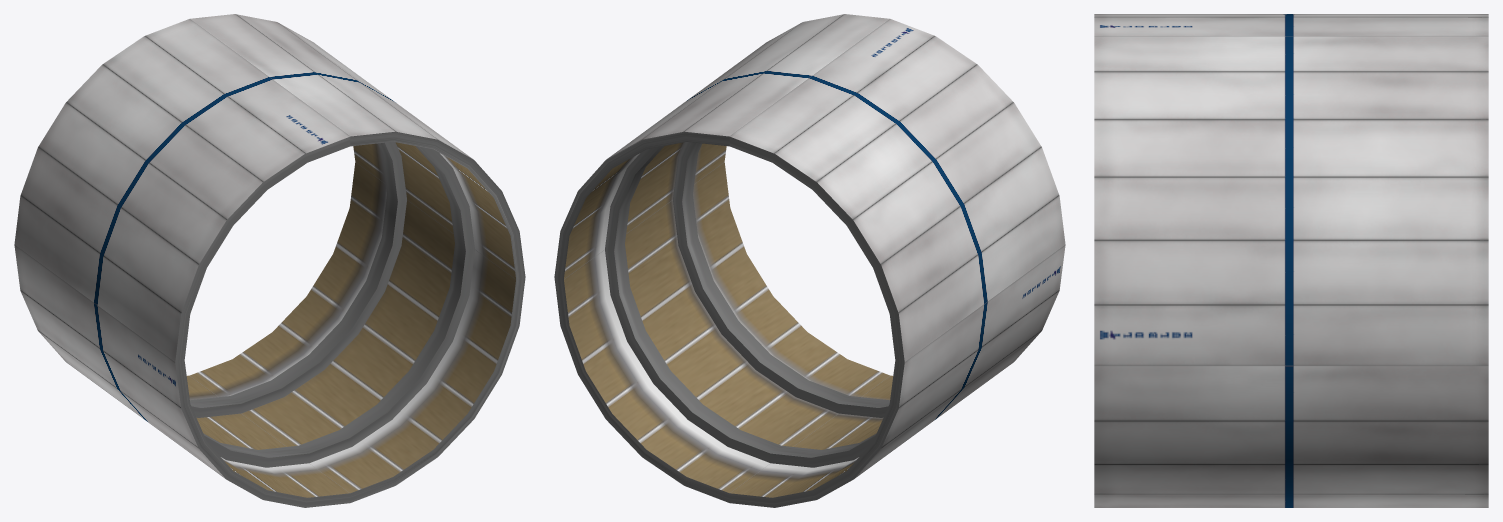
File: SpinRing.FBX
The picture shows the model from 3 angles, left to right: view 1: azimuth 30°, elevation 25°; view 2: azimuth 150°, elevation 25°; view 3: azimuth 270°, elevation 25°; orthographic projection. The views are drawn at different scales.
Parts seen in each view (by area): view 1: Ring, InnerRing001, InnerRing002; view 2: Ring, InnerRing002, InnerRing001; view 3: Ring.
Boxes of the visible parts, x1,y1,x2,y2 form: Ring: [14, 14, 525, 507]; InnerRing001: [203, 146, 474, 467]; InnerRing002: [190, 142, 406, 417]; Ring: [554, 14, 1065, 507]; InnerRing002: [605, 146, 876, 467]; InnerRing001: [673, 142, 889, 417]; Ring: [1094, 14, 1488, 507].
Size of what is drawn, in the model's own units: 1.87 by 1.49 by 1.88.
1 material, 1 textured.
